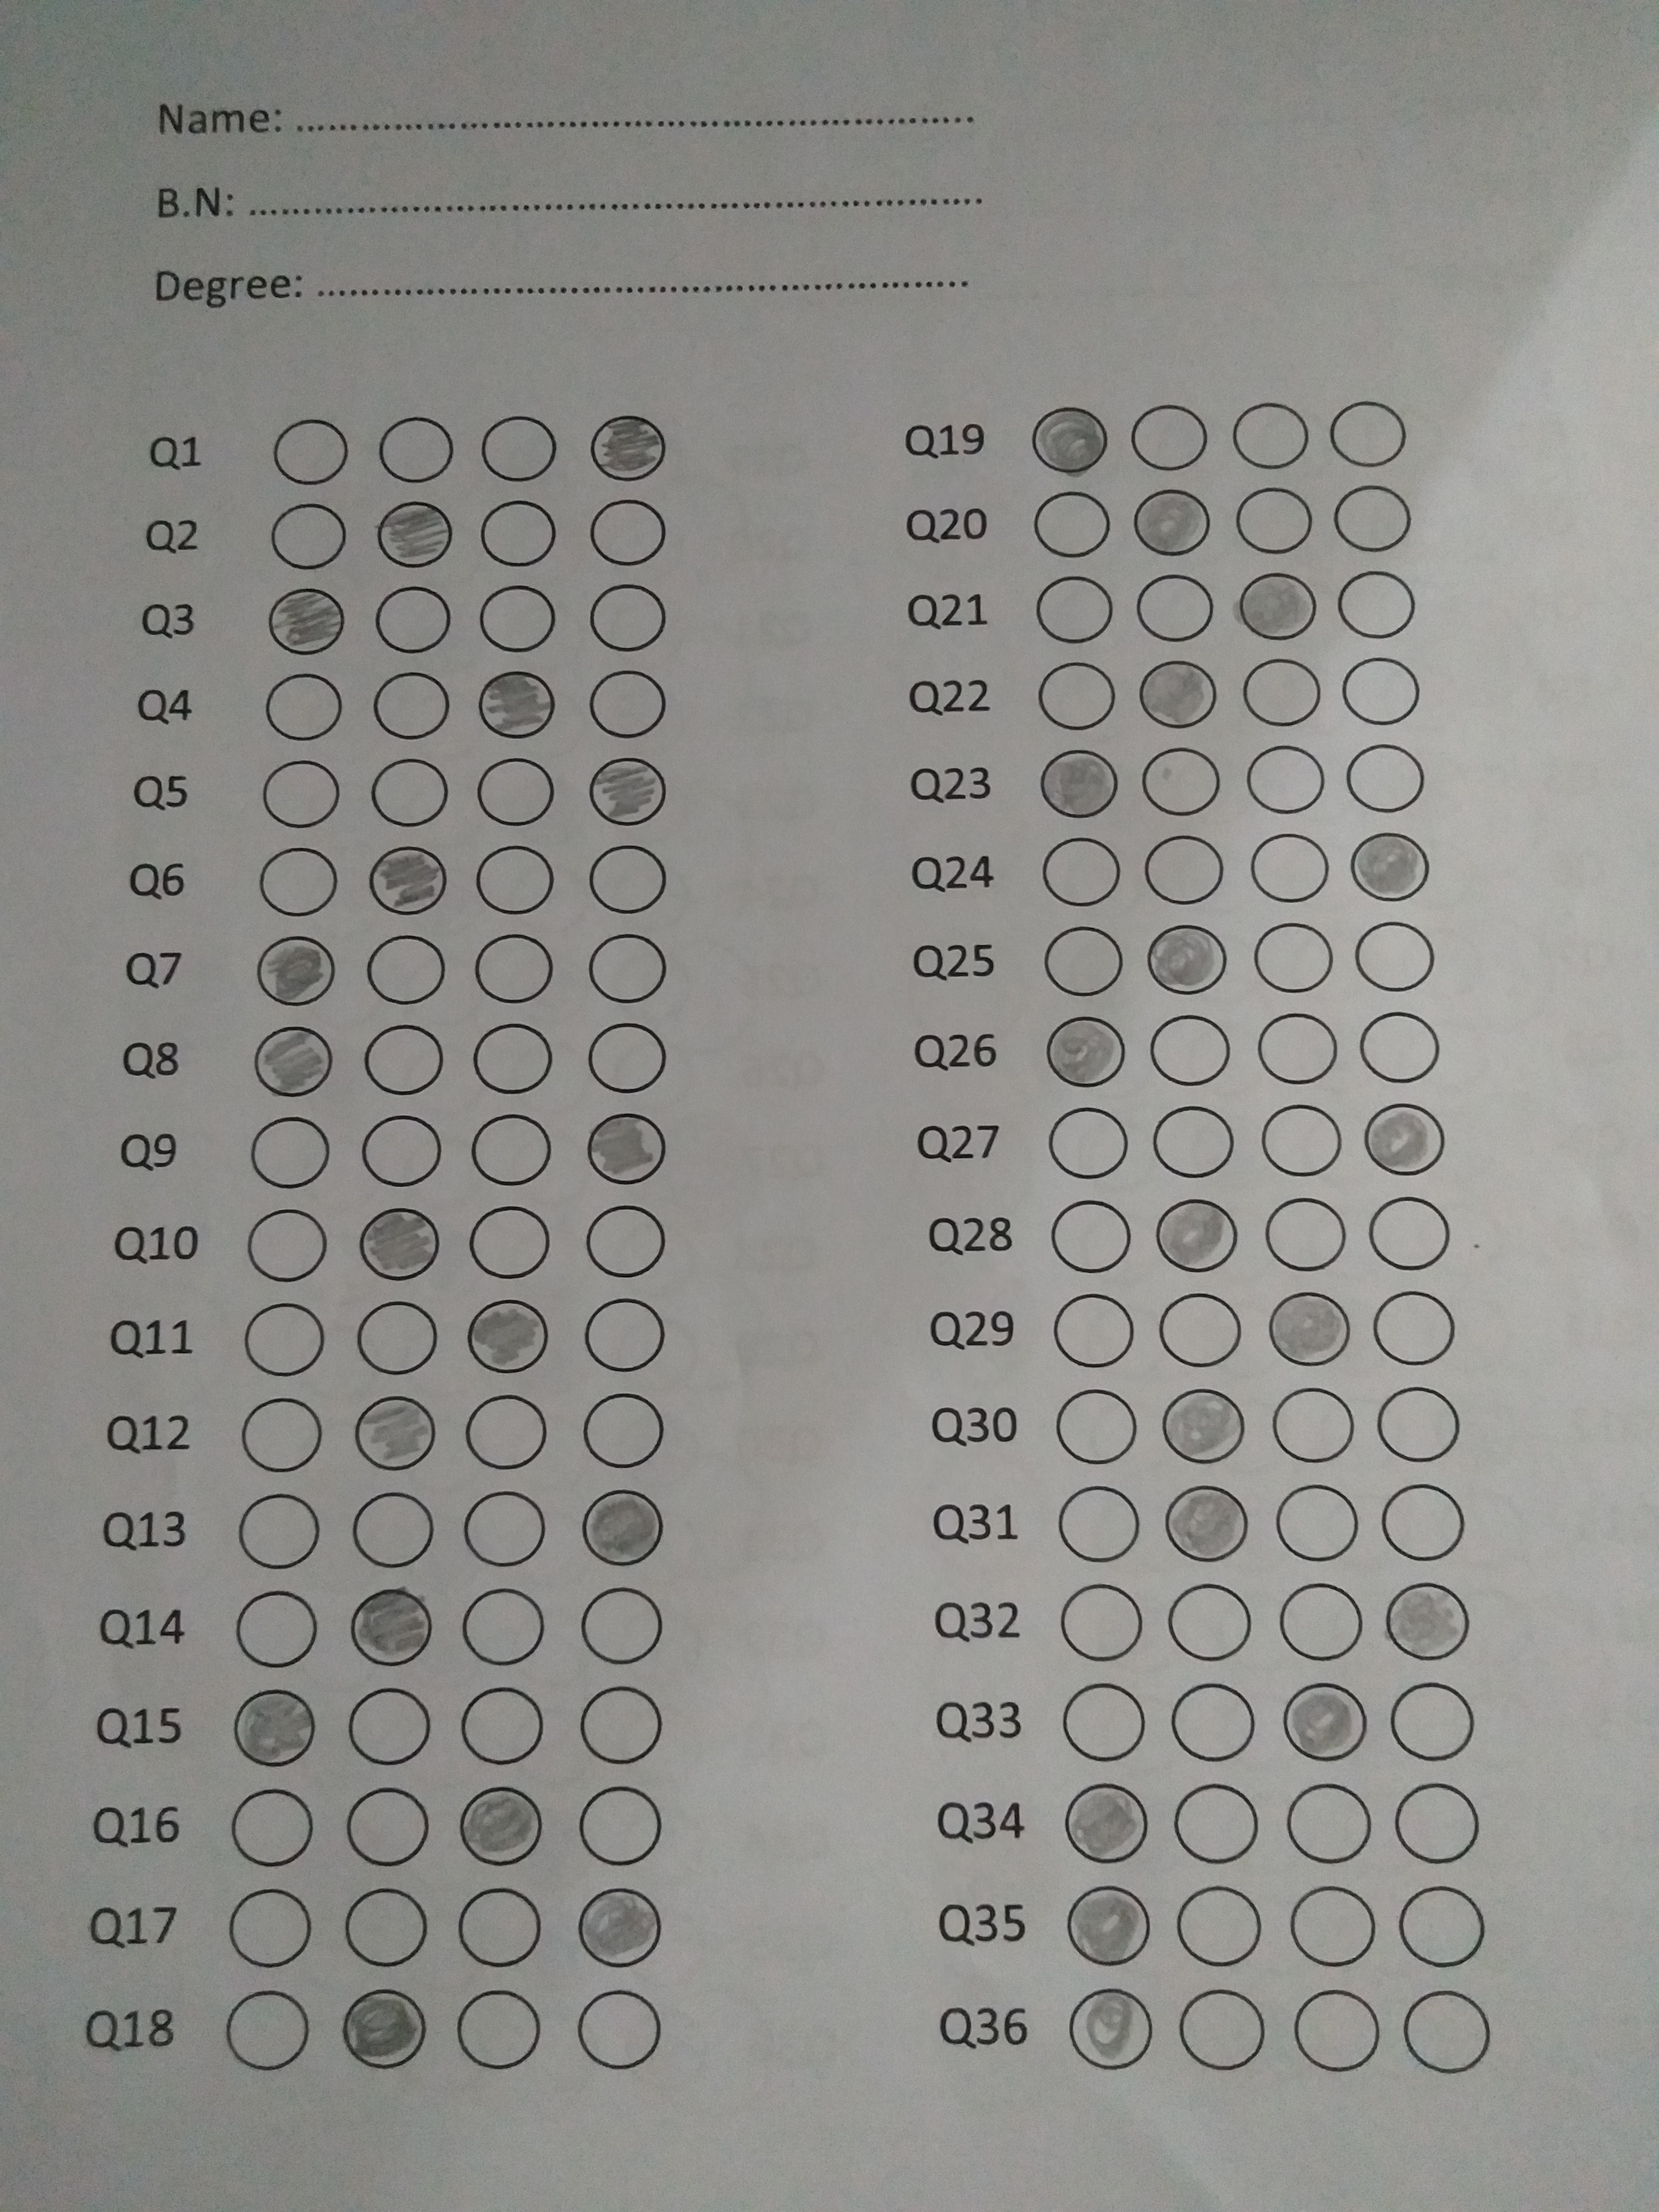not-c: (227, 1484, 338, 1580), (457, 1576, 552, 1684), (566, 1581, 673, 1677), (1284, 1879, 1389, 1975), (1171, 1876, 1274, 1972), (575, 1979, 669, 2083), (1162, 1677, 1267, 1771), (1047, 1578, 1159, 1665), (338, 1681, 443, 1773), (1175, 1982, 1272, 2080), (227, 1782, 328, 1876), (1256, 1197, 1361, 1287), (220, 1987, 322, 2078), (1150, 1291, 1255, 1379), (1272, 1578, 1377, 1667), (462, 1108, 568, 1195), (453, 1484, 559, 1571), (220, 1585, 328, 1670), (451, 1885, 552, 1975), (1058, 1676, 1159, 1766), (1385, 1677, 1476, 1778), (1269, 1480, 1373, 1568), (1281, 1778, 1385, 1865), (575, 840, 685, 921), (572, 1780, 667, 1872), (1399, 1987, 1495, 2080), (579, 664, 687, 745), (1042, 1191, 1140, 1282), (1053, 1386, 1150, 1477), (1173, 1780, 1272, 1869), (1047, 1287, 1141, 1379), (1396, 1881, 1490, 1973), (579, 1681, 669, 1777), (242, 1108, 342, 1195), (343, 1486, 443, 1573), (338, 1885, 437, 1972), (469, 1017, 573, 1099), (223, 1883, 317, 1973), (1368, 1197, 1464, 1285), (575, 1390, 673, 1477), (455, 1684, 552, 1771), (458, 1390, 559, 1474), (1263, 1383, 1358, 1472), (239, 1205, 336, 1291), (1162, 1581, 1262, 1665), (246, 840, 347, 921), (1328, 566, 1429, 648), (1394, 1782, 1485, 1872), (455, 1987, 544, 2080), (1377, 1480, 1469, 1569), (1258, 1097, 1352, 1184), (350, 1296, 446, 1381), (235, 1393, 326, 1482), (1291, 1987, 1385, 2073), (1239, 829, 1335, 913), (239, 1299, 336, 1381), (577, 1202, 669, 1287), (1370, 1287, 1464, 1371), (1030, 655, 1119, 742), (1028, 484, 1119, 570), (1351, 916, 1441, 1001), (359, 1109, 451, 1193), (469, 843, 563, 925), (1131, 573, 1225, 655), (1371, 1381, 1466, 1463), (354, 934, 457, 1008), (260, 669, 355, 749), (462, 1204, 558, 1284), (1234, 653, 1333, 730), (1337, 740, 1443, 812), (1054, 1482, 1143, 1568), (1040, 921, 1134, 1001), (253, 758, 355, 831), (371, 578, 467, 657), (345, 1785, 430, 1872), (1330, 477, 1420, 559), (472, 578, 568, 655), (1140, 831, 1225, 916), (580, 1294, 671, 1374), (1148, 1012, 1234, 1096), (1049, 1099, 1134, 1183), (1356, 1007, 1443, 1089), (1251, 1010, 1342, 1089), (582, 580, 674, 657), (354, 1021, 446, 1097), (368, 667, 462, 742), (1227, 482, 1321, 557), (1243, 742, 1330, 822), (373, 413, 464, 489), (472, 754, 563, 831), (469, 930, 559, 1007), (1037, 831, 1129, 906), (474, 495, 558, 577), (582, 1021, 669, 1099), (1126, 401, 1213, 479), (580, 932, 671, 1007), (268, 415, 352, 495), (1251, 920, 1335, 1000), (1152, 1103, 1237, 1181), (369, 752, 458, 827), (1032, 573, 1117, 650), (584, 493, 669, 568), (1141, 745, 1229, 819), (1342, 658, 1431, 730), (267, 500, 350, 573), (477, 413, 561, 484), (1234, 402, 1316, 472), (1326, 401, 1408, 465)
taken-c: (575, 1883, 666, 1970), (1279, 1677, 1368, 1764), (1065, 1881, 1152, 1970), (230, 1684, 317, 1771), (342, 1984, 429, 2071), (455, 1785, 544, 1871), (1063, 1987, 1155, 2069), (1159, 1385, 1249, 1467), (1384, 1581, 1474, 1663), (465, 1292, 551, 1378), (1063, 1782, 1150, 1865), (1162, 1480, 1251, 1562), (1361, 1099, 1448, 1181), (1265, 1287, 1352, 1369), (579, 1487, 666, 1568), (350, 1587, 434, 1669), (1154, 1197, 1241, 1275), (359, 1204, 444, 1282), (1143, 918, 1229, 996), (249, 1022, 336, 1099), (587, 1108, 667, 1188), (1140, 651, 1220, 732), (355, 1395, 437, 1474), (1349, 829, 1436, 902), (587, 751, 669, 827), (263, 583, 347, 658), (1236, 566, 1319, 641), (253, 934, 338, 1007), (366, 843, 450, 916), (1037, 745, 1121, 819), (1044, 1015, 1127, 1089), (375, 496, 457, 570), (474, 669, 558, 740), (1030, 402, 1110, 475), (587, 413, 669, 484), (1133, 484, 1211, 556)
